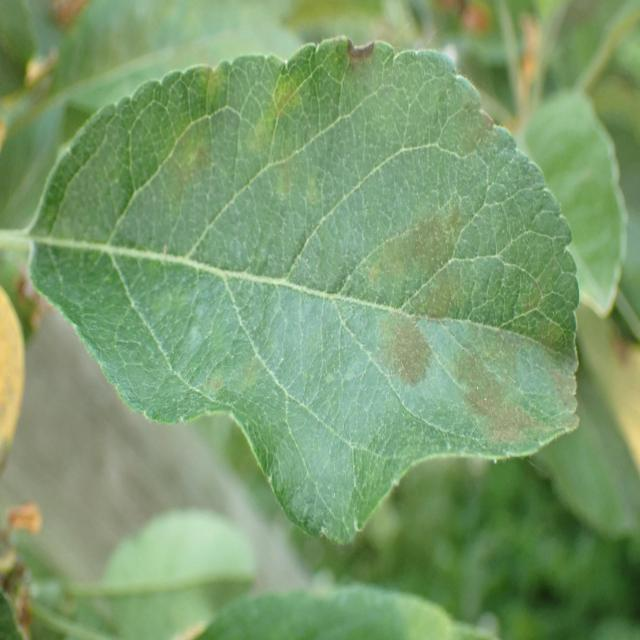scab: (44, 32, 580, 454)
